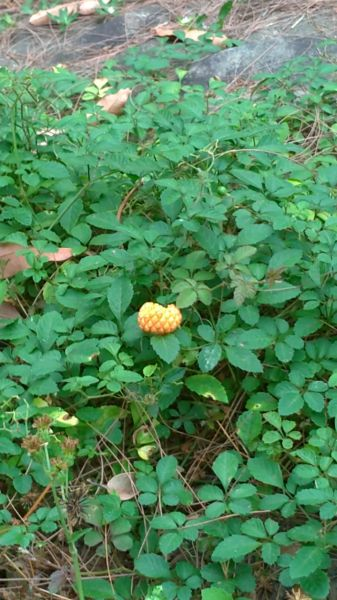eggs: (135, 297, 188, 340)
